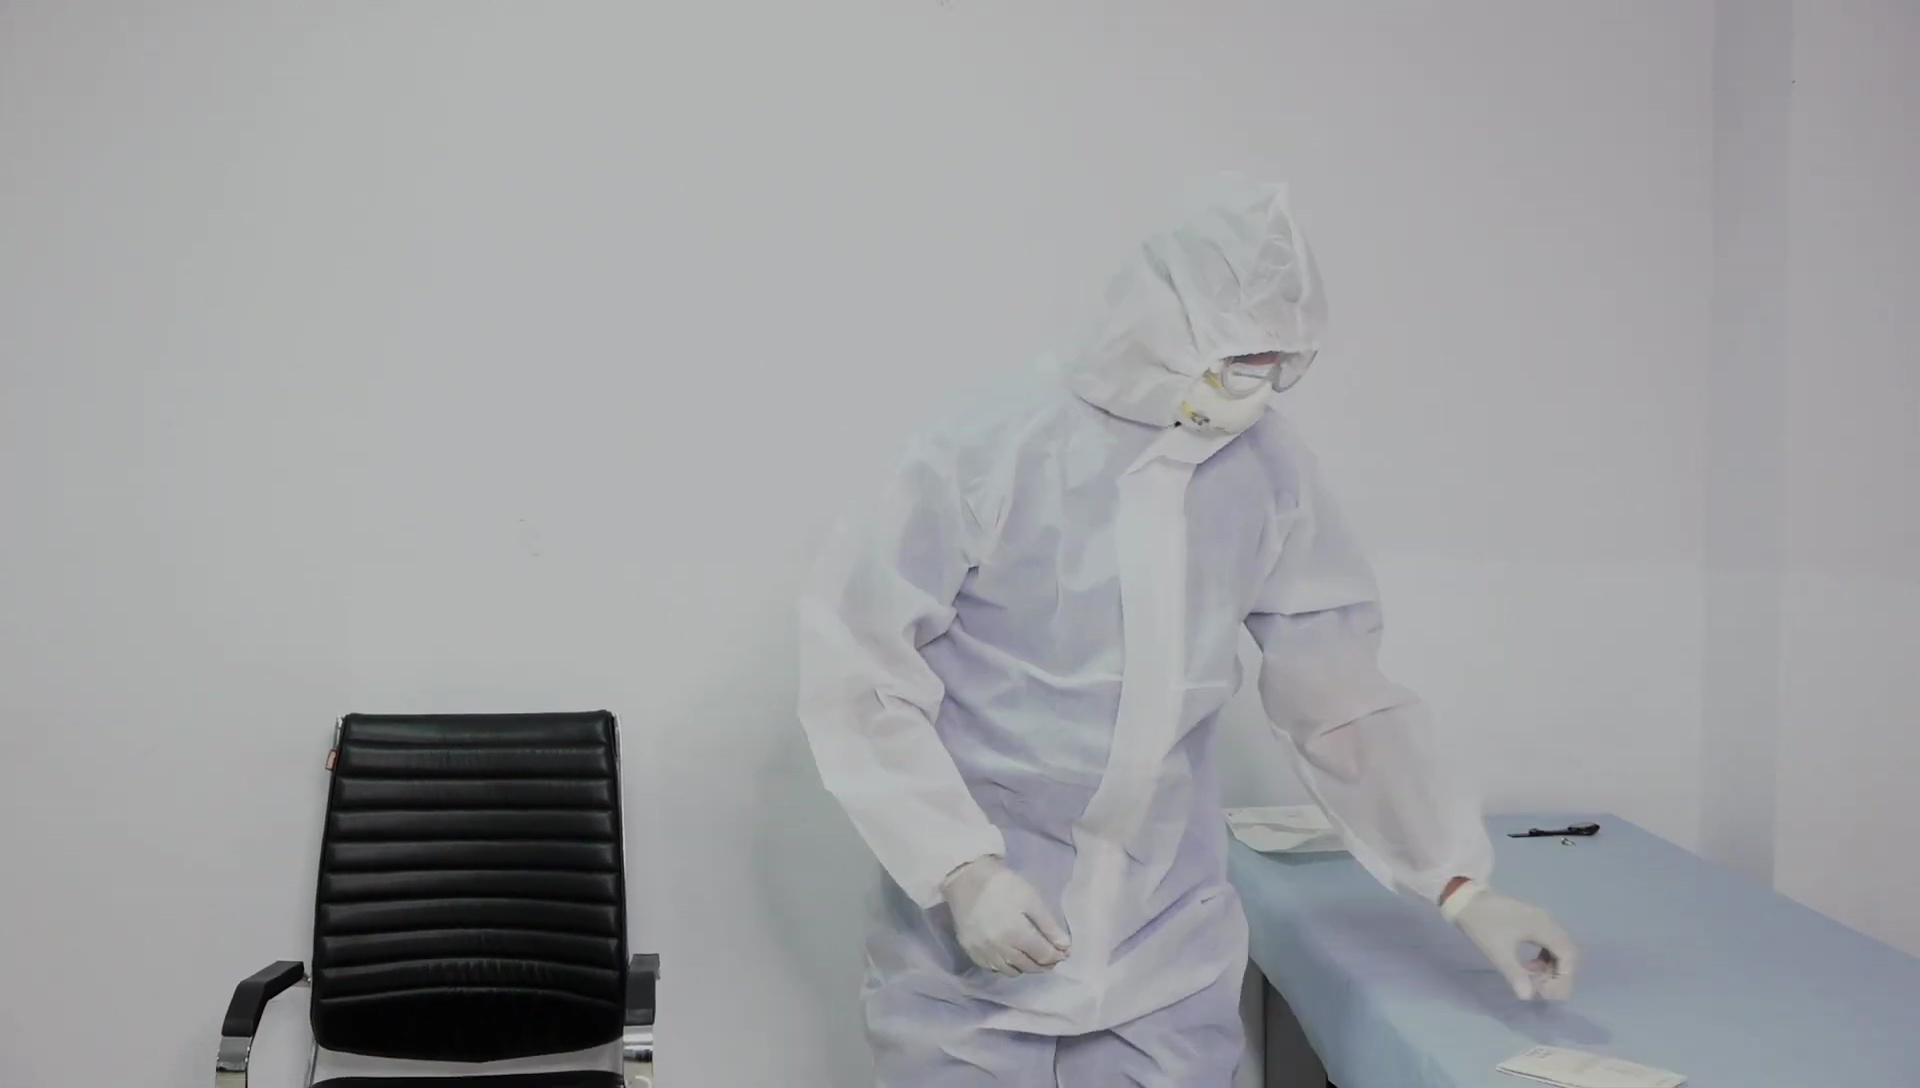Coverall: (798, 174, 1494, 1086)
Gloves: (1435, 880, 1579, 1007), (939, 859, 1073, 980)
Goggles: (1203, 346, 1321, 399)
with_mask: (1178, 367, 1275, 436)
